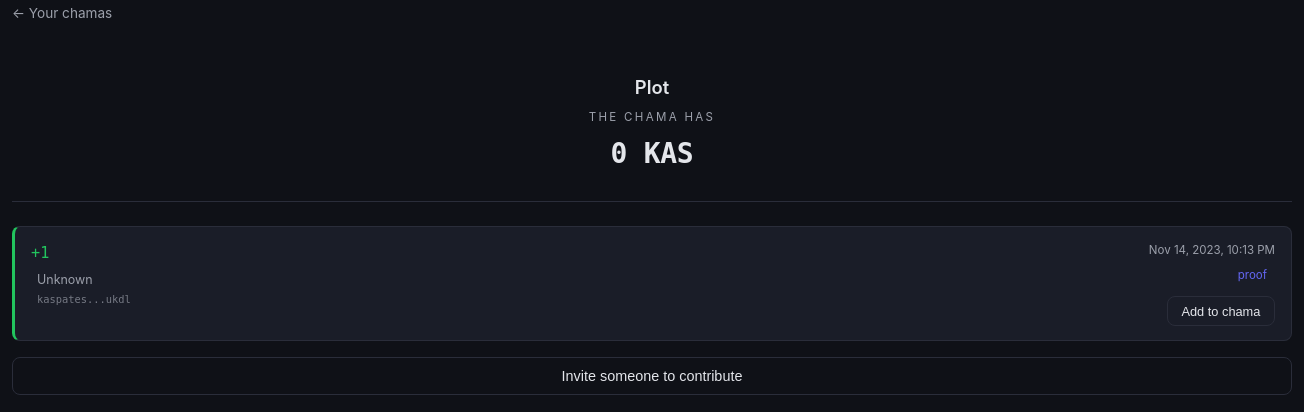
Test case: BookPage › lets the group wallet add a non-member from the book
The image size is (1304, 412).
Click the button with test id "add-member". click: (1221, 311)
box: [1167,296,1275,326]
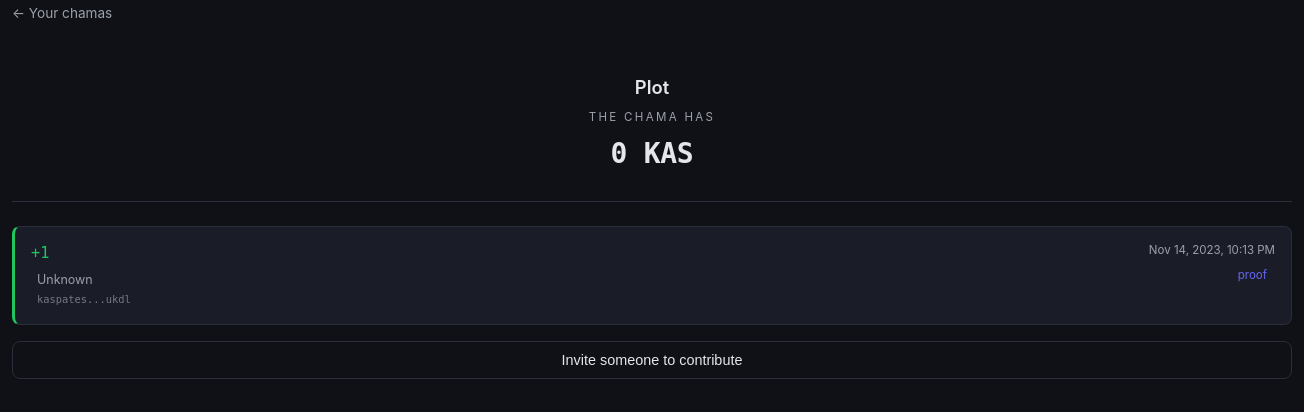
Expected: the button with test id "add-member" is gone
